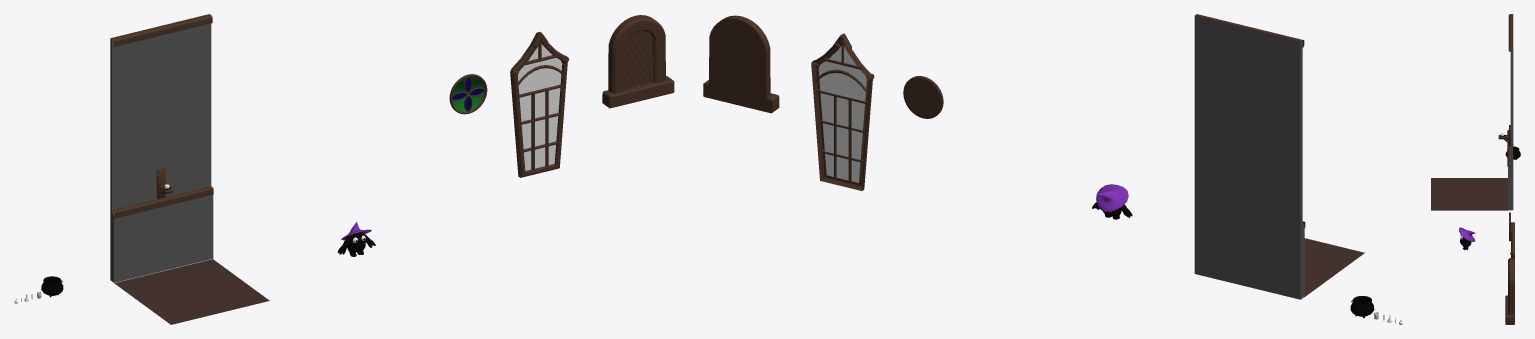
The model's file is Parede Modular 1.fbx.
3 views of the same model, side by side, from view 1: azimuth 30°, elevation 25°; view 2: azimuth 150°, elevation 25°; view 3: azimuth 270°, elevation 25° (orthographic). The views are drawn at different scales.
Visible parts, largest first — view 1: Parede Modular 1, Janela, Piso Modular, Plane, Janela Redonda, Monstrinho; view 2: Parede Modular 1, Janela, Plane, Piso Modular, Janela Redonda, Chapeu; view 3: Piso Modular, Parede Modular 1, Plane, Janela, Chapeu, Suporte Vela, Caldeirão, Monstrinho.
Part boxes in pixels (x1,y1,x2,y2): Parede Modular 1: (110,14,213,282); Janela: (510,32,569,177); Piso Modular: (114,259,269,324); Plane: (602,15,674,108); Janela Redonda: (449,74,487,114); Monstrinho: (337,231,375,256); Parede Modular 1: (1194,14,1305,299); Janela: (811,33,874,190); Plane: (703,15,779,113); Piso Modular: (1304,238,1364,296); Janela Redonda: (903,76,943,118); Chapeu: (1096,184,1128,212); Piso Modular: (1431,178,1507,210); Parede Modular 1: (1507,14,1513,210); Plane: (1505,258,1514,324); Janela: (1510,222,1514,323); Chapeu: (1459,227,1475,241); Suporte Vela: (1498,125,1510,146); Caldeirão: (1505,146,1520,159); Monstrinho: (1460,237,1471,250).
Size of the model in its own units: 4906 by 1737 by 861.
